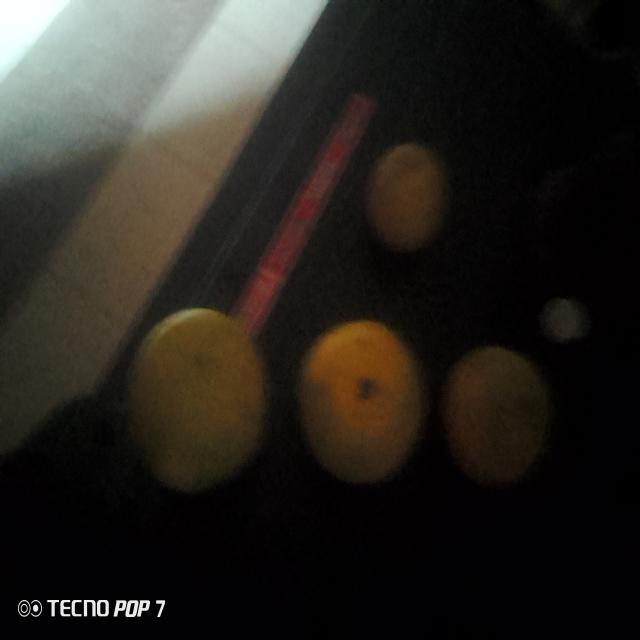Ripe orange: (123, 303, 270, 497), (298, 315, 423, 495), (441, 348, 552, 490), (372, 150, 448, 251)
